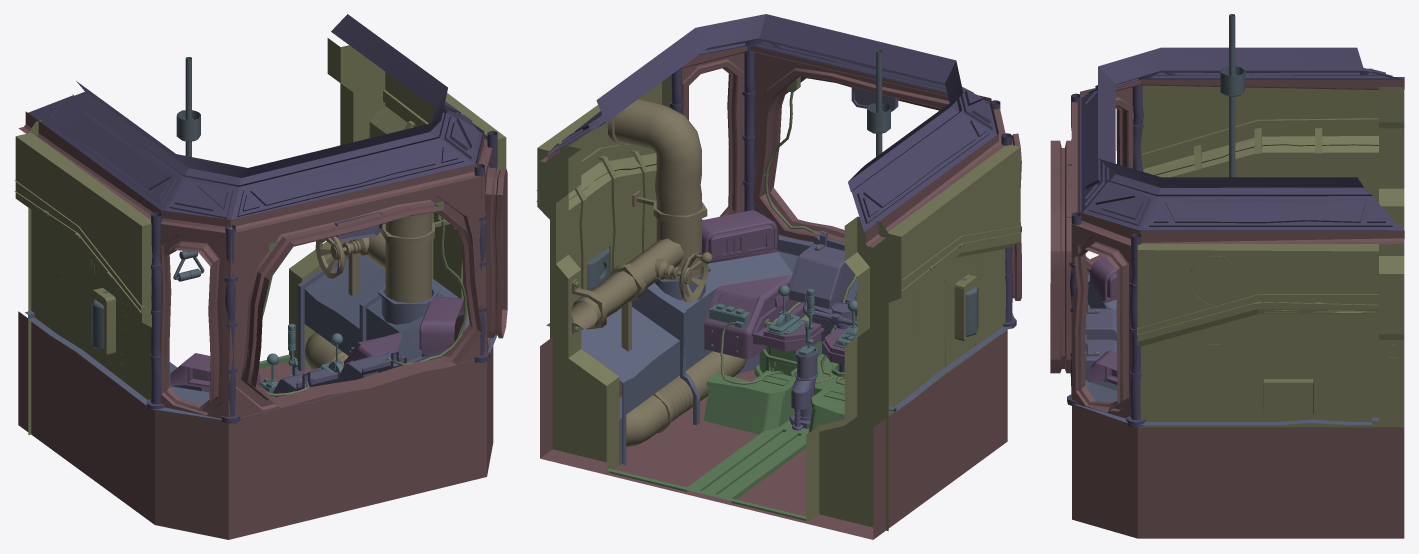
File: Mech.fbx
3 views of the same model, side by side, from view 1: azimuth 30°, elevation 25°; view 2: azimuth 150°, elevation 25°; view 3: azimuth 270°, elevation 25° (orthographic). The views are drawn at different scales.
Parts seen in each view (by area): view 1: Mech, HeatRelease, Valve, HeatReleaseBody; view 2: Mech, Valve, HeatReleaseBody, HeatRelease; view 3: Mech, HeatRelease, HeatReleaseBody.
Boxes of the visible parts, x1,y1,x2,y2 form: Mech: [14, 14, 507, 539]; HeatRelease: [173, 57, 204, 281]; Valve: [315, 236, 346, 278]; HeatReleaseBody: [176, 110, 200, 141]; Mech: [536, 14, 1021, 539]; Valve: [677, 252, 712, 302]; HeatReleaseBody: [867, 103, 890, 133]; HeatRelease: [876, 50, 882, 156]; Mech: [1050, 47, 1404, 538]; HeatRelease: [1229, 14, 1235, 177]; HeatReleaseBody: [1220, 66, 1245, 96].
Bounding box in the file's own units: 86.42 × 93.07 × 72.94.
